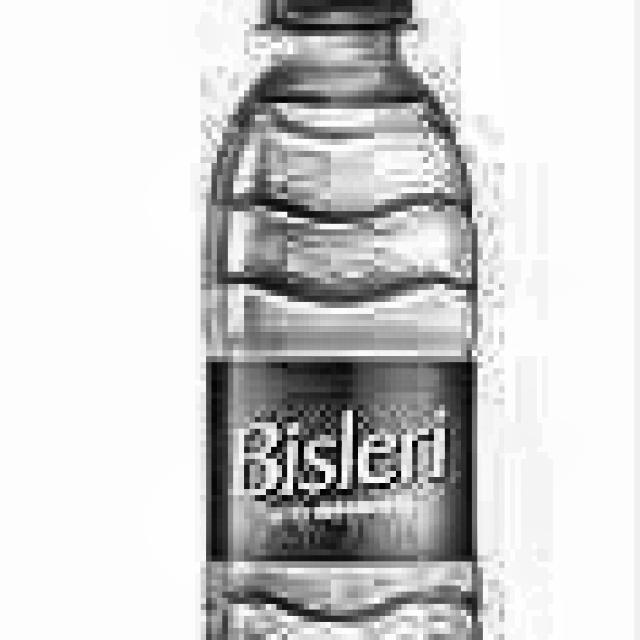bottle: (195, 0, 491, 640)
